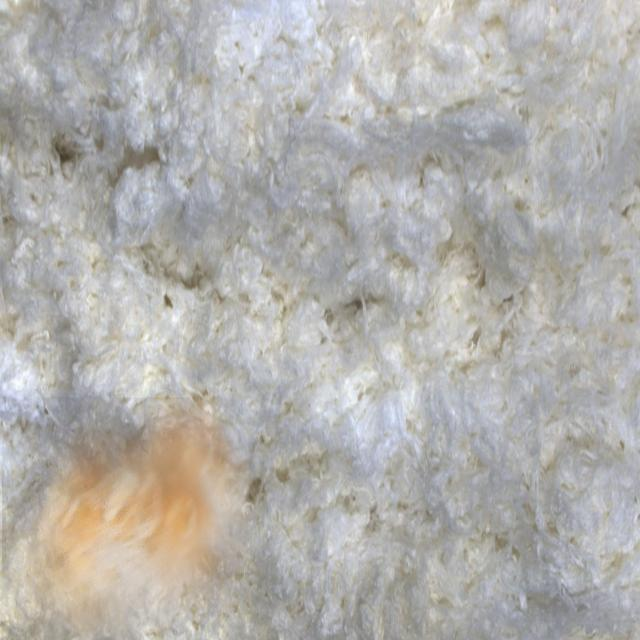dust: (2, 397, 249, 640)
